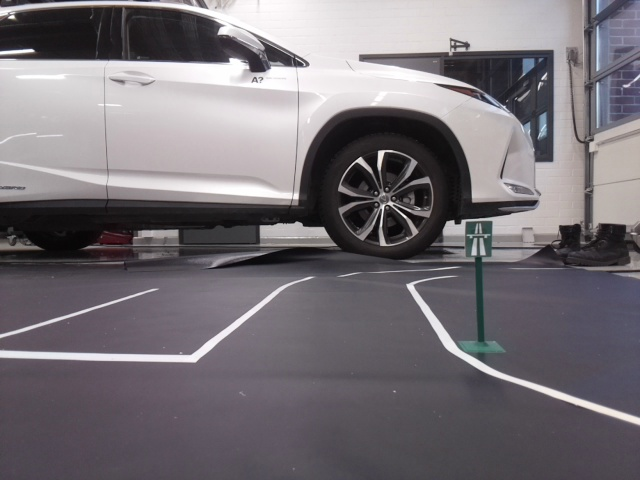HighwayEntrance: (463, 221, 491, 256)
